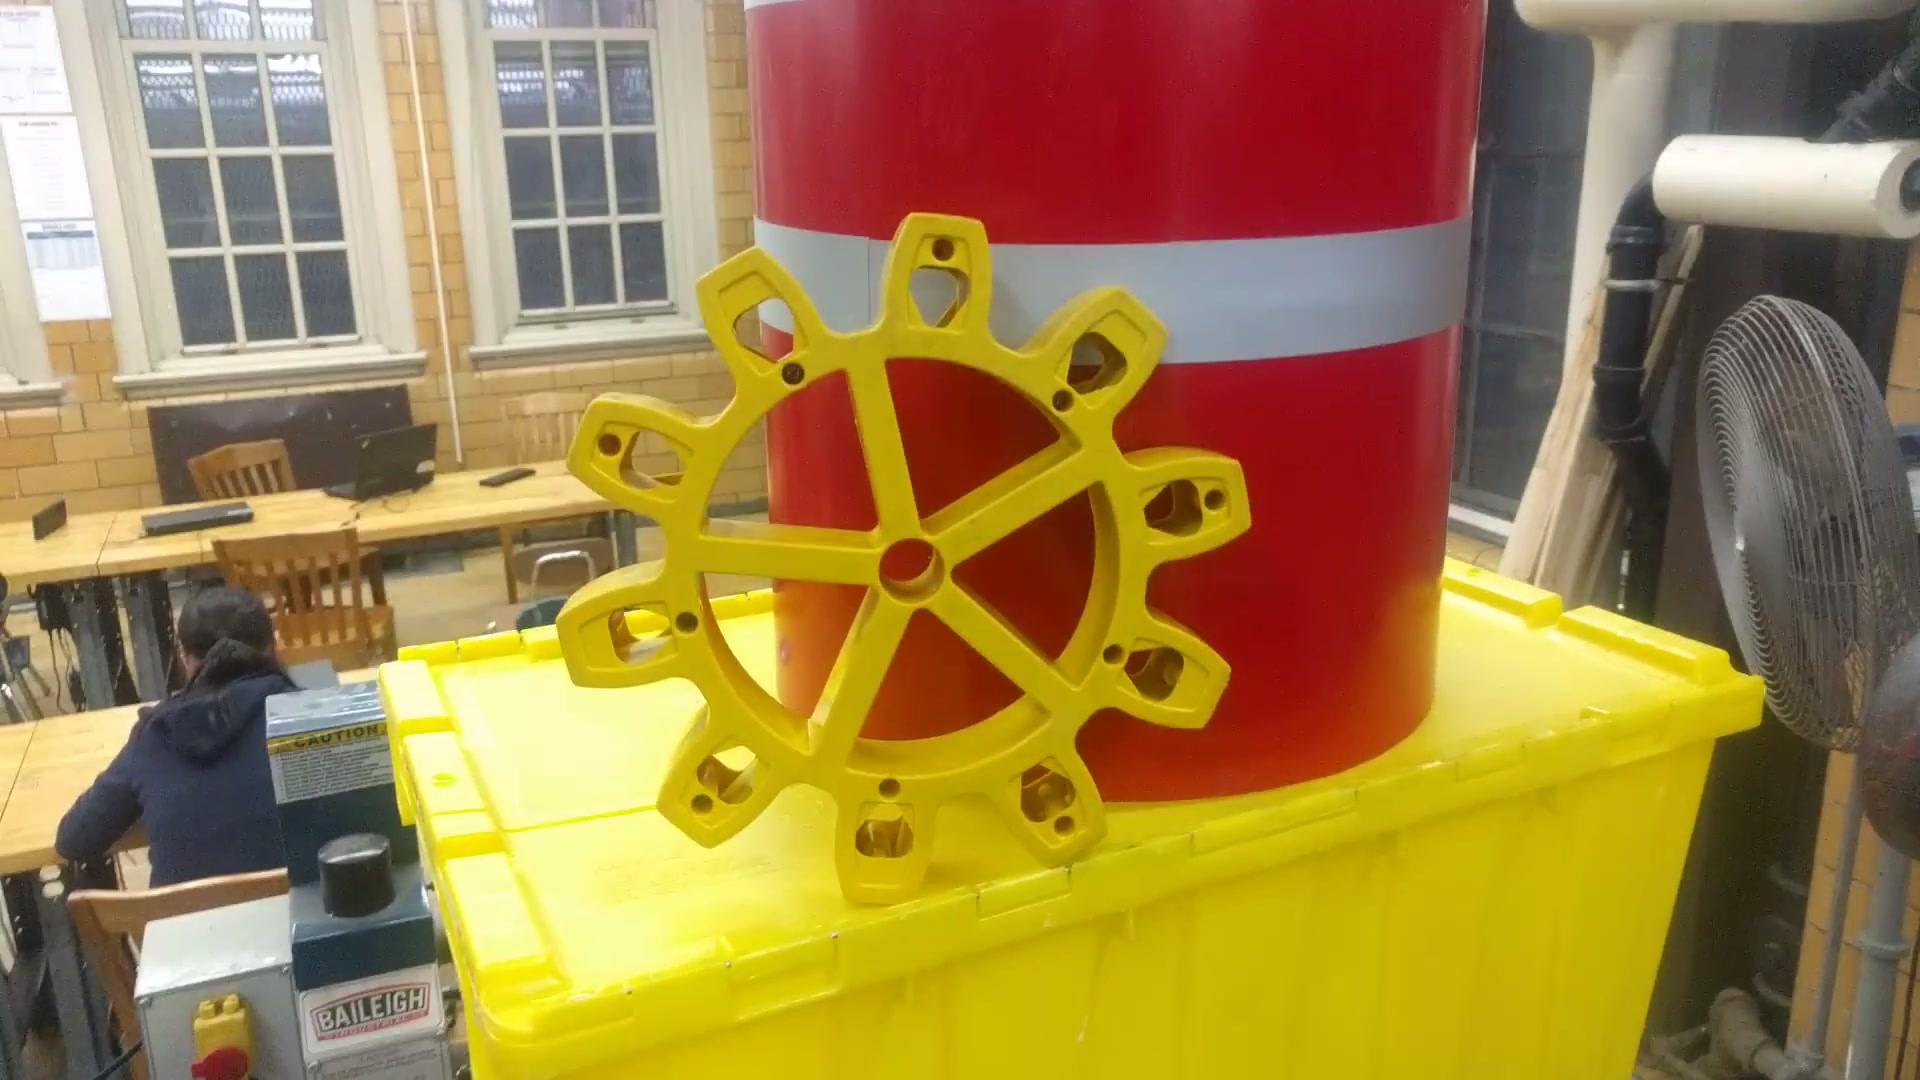gear: (553, 196, 1249, 885)
